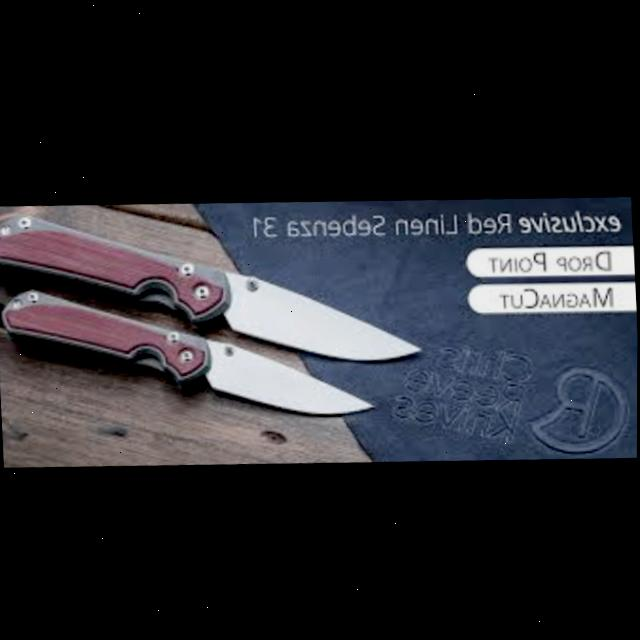knife: (0, 187, 424, 378), (0, 269, 377, 431)
